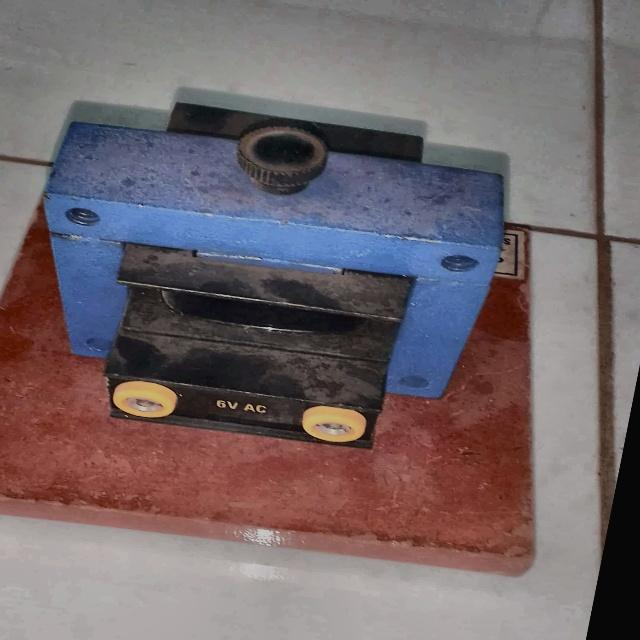Transformer Demo: (0, 48, 631, 504)
